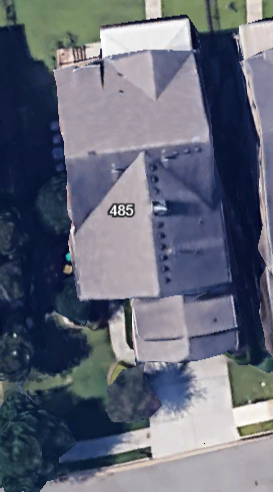driveway: (140, 352, 237, 457)
